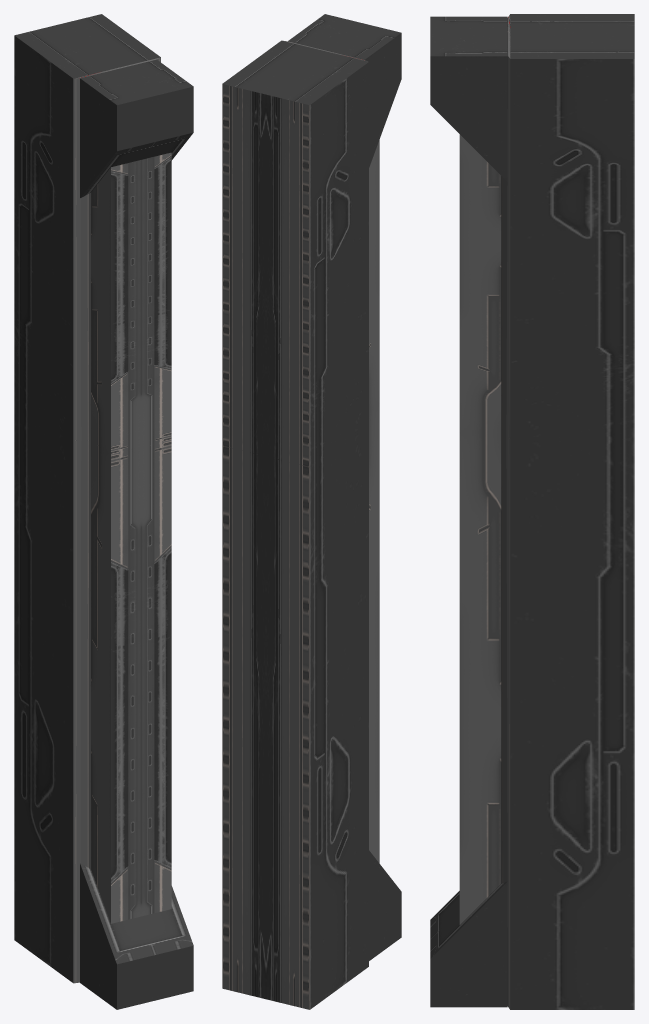
File: Column_Simple.gltf
The picture shows the model from 3 angles, left to right: view 1: azimuth 30°, elevation 25°; view 2: azimuth 150°, elevation 25°; view 3: azimuth 270°, elevation 25°; orthographic projection. The views are drawn at different scales.
Parts seen in each view (by area): view 1: Column_Simple; view 2: Column_Simple; view 3: Column_Simple.
Part boxes in pixels (bbox=[...]): Column_Simple: bbox=[14, 14, 193, 1009]; Column_Simple: bbox=[222, 14, 401, 1009]; Column_Simple: bbox=[430, 14, 634, 1009].
Size of the model in its own units: 0.5068 by 5 by 0.9749.
Materials: 2 (2 with a texture image).
